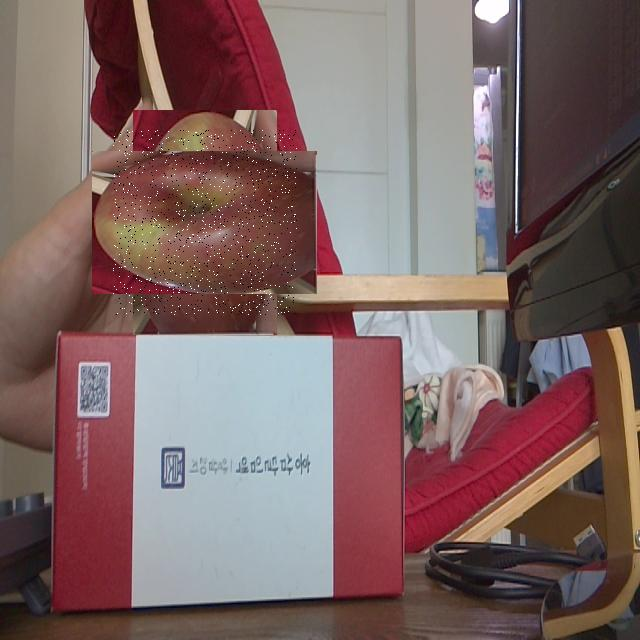apple: (113, 130, 297, 315)
